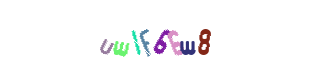6: (121, 0, 201, 80), (124, 0, 204, 80)
8: (164, 0, 244, 80)
F: (114, 0, 194, 80)
L: (108, 0, 188, 80)
U: (82, 0, 162, 80)
W: (96, 0, 176, 80), (147, 0, 227, 80)
